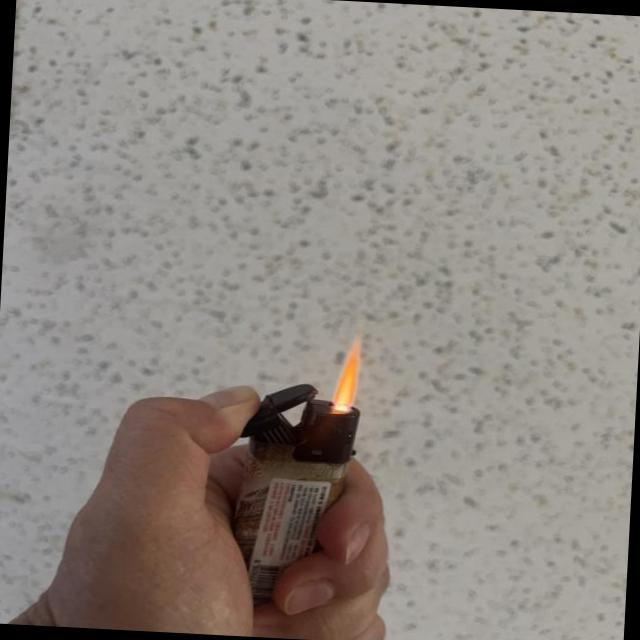Fire: (333, 343, 362, 411)
